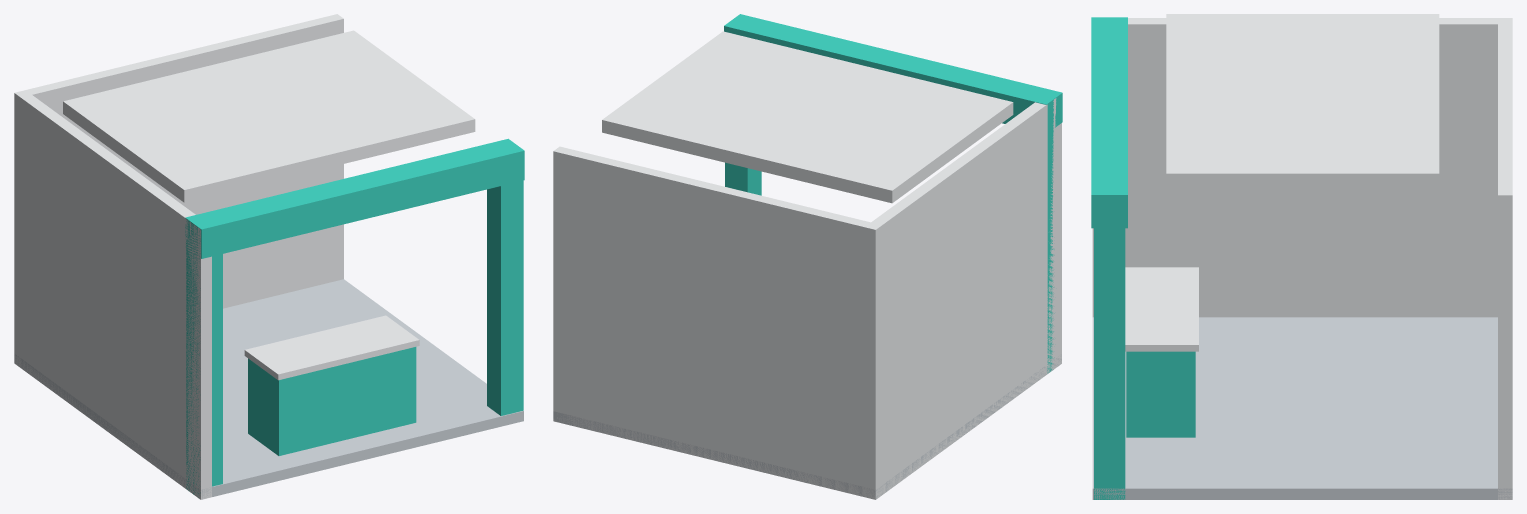
The picture shows the model from 3 angles, left to right: view 1: azimuth 30°, elevation 25°; view 2: azimuth 150°, elevation 25°; view 3: azimuth 270°, elevation 25°; orthographic projection. The views are drawn at different scales.
Parts seen in each view (by area): view 1: Exhibition Booth Concept; view 2: Exhibition Booth Concept; view 3: Exhibition Booth Concept.
Boxes of the visible parts, left/top/right/bottom form: Exhibition Booth Concept: left=14, top=14, right=524, bottom=499; Exhibition Booth Concept: left=553, top=14, right=1062, bottom=499; Exhibition Booth Concept: left=1091, top=14, right=1512, bottom=499.
Bounding box in the file's own units: 4 × 3.34 × 4.02.
